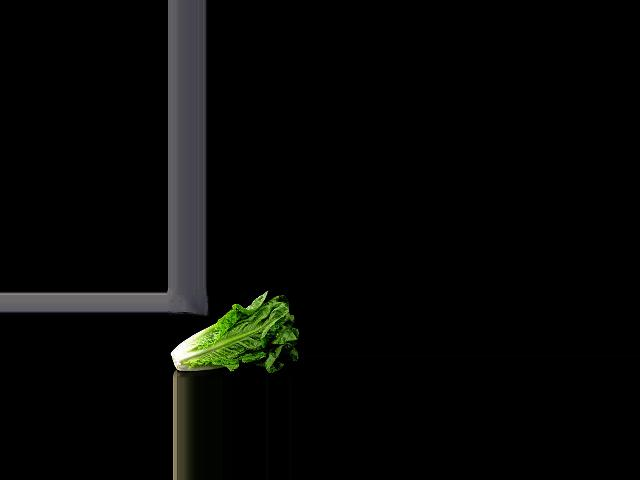lettuce: (169, 291, 301, 373)
